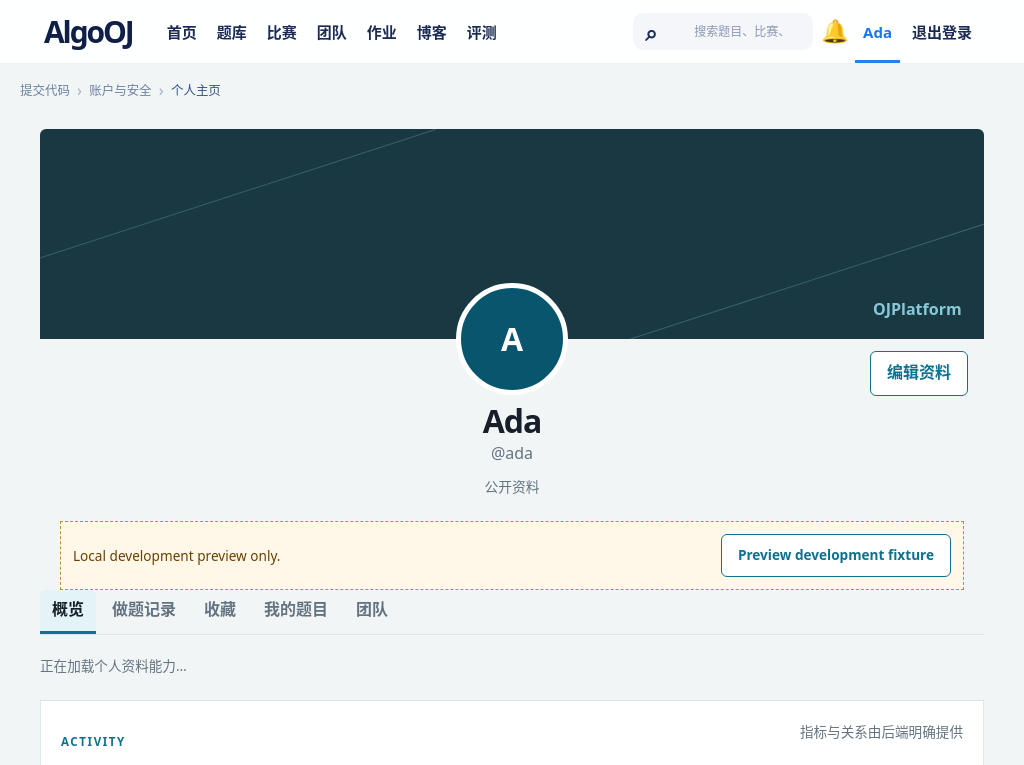
Test: PRODUCT WEB EXPERIENCE FOUNDATION V1 › canonical self profile edit entry reaches personalized editor
The width and height of the screenshot is (1024, 765).
Click the button "编辑资料": coordinates (919, 373) [870, 351, 968, 396]
(page scrolled)
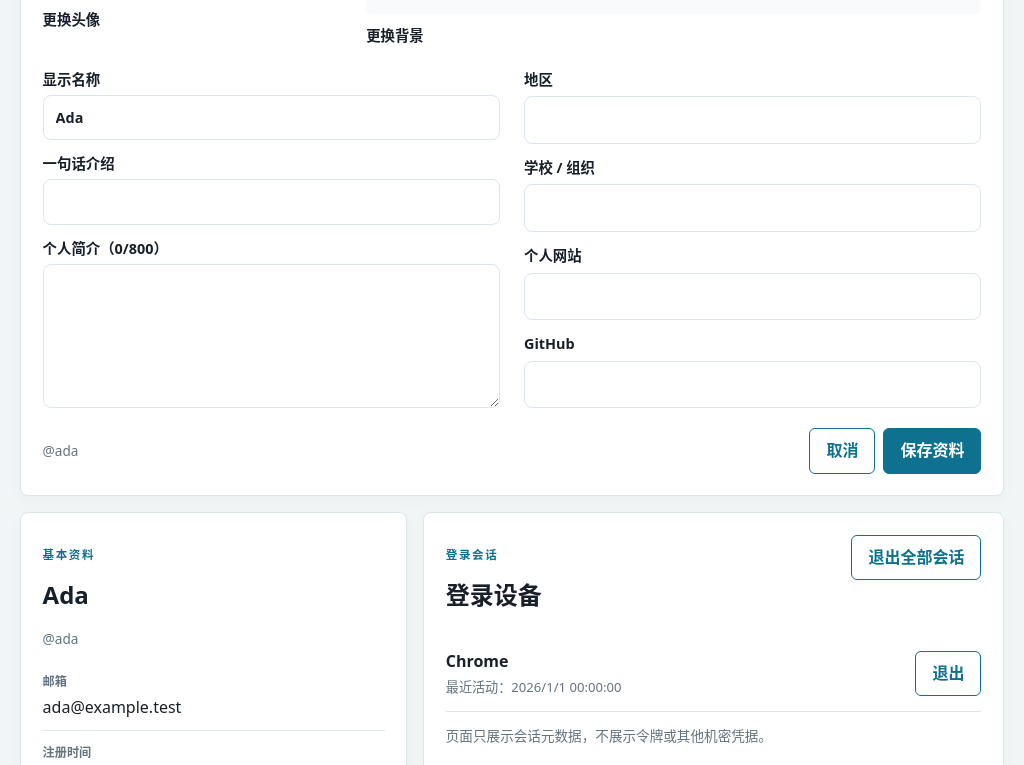
Expected: the field labelled "显示名称" holds "Ada", [43, 95, 500, 140]
Expected: the field labelled "GitHub" is shown, [524, 361, 981, 408]
